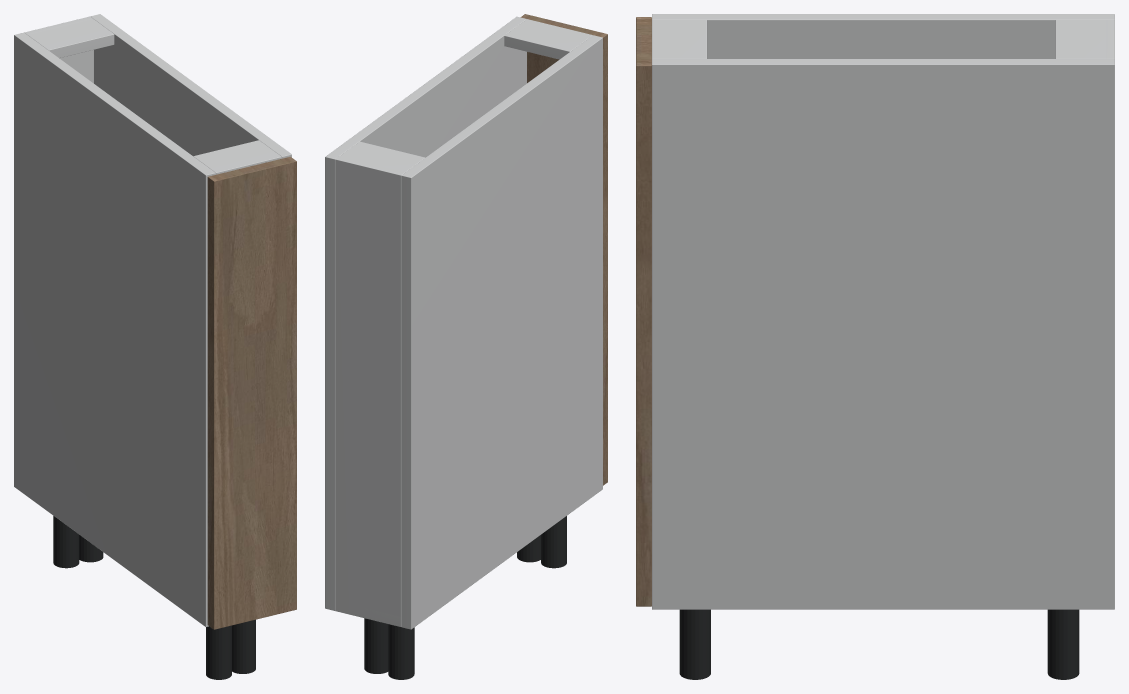
File: oppein-ply-mnw-b06fh.glb
3 renders of one model, left to right at view 1: azimuth 30°, elevation 25°; view 2: azimuth 150°, elevation 25°; view 3: azimuth 270°, elevation 25°, orthographic. The views are drawn at different scales.
Parts seen in each view (by area): view 1: Cabinet side, Door, Cabinet side.001, Top support rail, Top support rail.001, Adjustable foot.001, Adjustable foot.003, Adjustable foot, Cabinet back, Adjustable foot.002; view 2: Cabinet side, Cabinet back, Cabinet side.001, Door, Top support rail.001, Adjustable foot, Top support rail, Adjustable foot.002, Adjustable foot.001, Adjustable foot.003; view 3: Cabinet side.001, Cabinet side, Door, Adjustable foot.002, Adjustable foot.003, Top support rail.001, Top support rail.
Part boxes in pixels (x1,y1,x2,y2): Cabinet side: [14, 32, 215, 626]; Door: [207, 156, 296, 629]; Cabinet side.001: [90, 14, 291, 158]; Top support rail: [26, 19, 114, 58]; Top support rail.001: [193, 140, 281, 174]; Adjustable foot.001: [206, 625, 231, 679]; Adjustable foot.003: [232, 619, 255, 673]; Adjustable foot: [53, 516, 79, 568]; Cabinet back: [24, 16, 93, 83]; Adjustable foot.002: [79, 535, 103, 562]; Cabinet side: [401, 35, 602, 629]; Cabinet back: [335, 156, 403, 626]; Cabinet side.001: [325, 16, 526, 610]; Door: [520, 14, 607, 485]; Top support rail.001: [504, 19, 592, 59]; Adjustable foot: [388, 624, 414, 679]; Top support rail: [339, 141, 425, 173]; Adjustable foot.002: [364, 618, 388, 673]; Adjustable foot.001: [541, 516, 566, 568]; Adjustable foot.003: [517, 535, 540, 562]; Cabinet side.001: [652, 59, 1114, 609]; Cabinet side: [652, 14, 1114, 58]; Door: [636, 17, 651, 606]; Adjustable foot.002: [1047, 609, 1079, 679]; Adjustable foot.003: [679, 609, 710, 679]; Top support rail.001: [652, 20, 707, 58]; Top support rail: [1055, 20, 1109, 58].
Bounding box in the file's own units: 0.1524 × 0.8763 × 0.6064.
Materials: 3 (1 with a texture image).
